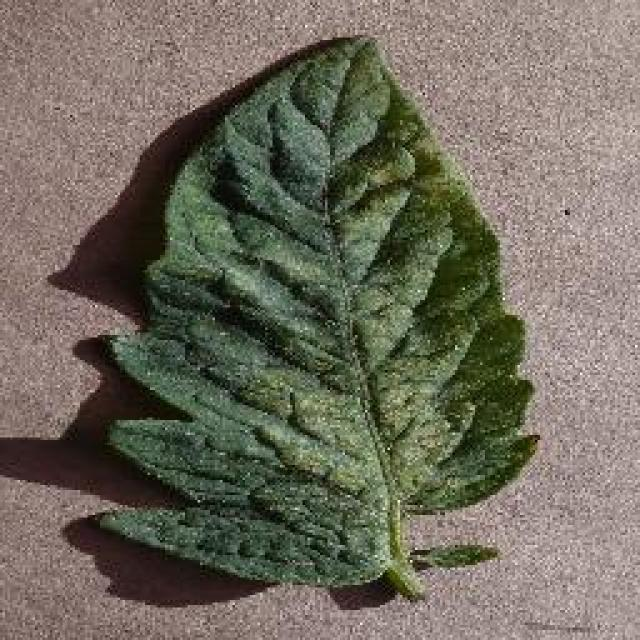Tomato mosaic virus leaf: (91, 32, 541, 590)
